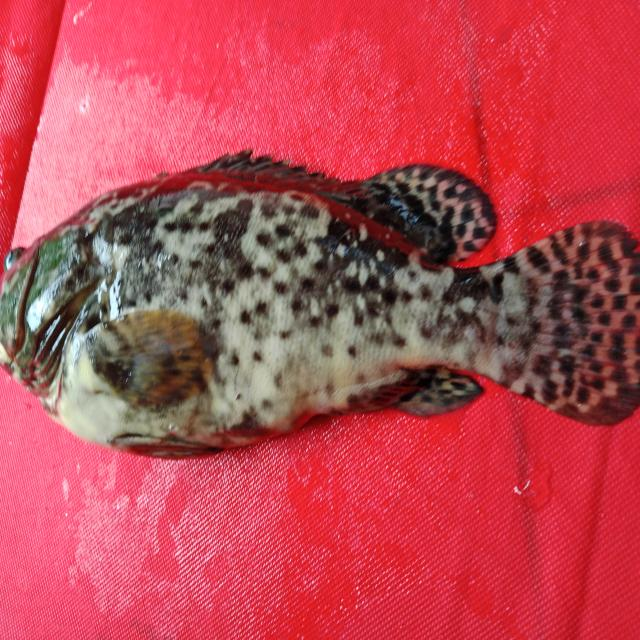ikan: (13, 119, 628, 472)
